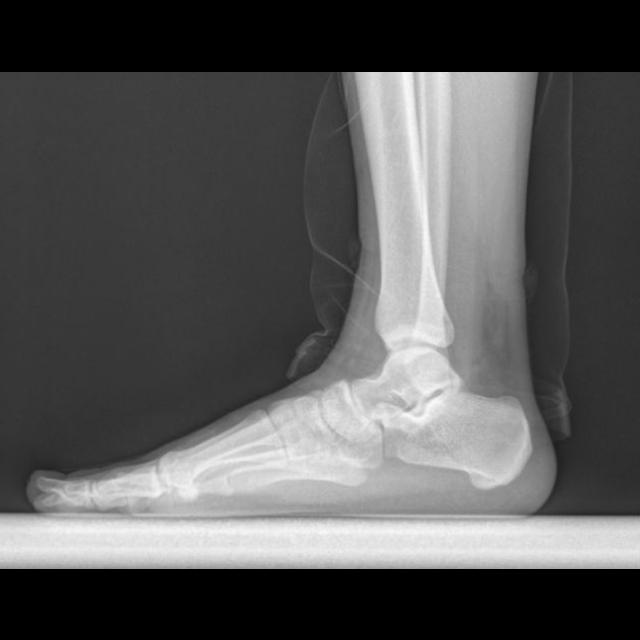a: (371, 390, 532, 491)
b: (320, 380, 377, 440)
c: (155, 406, 286, 487)
